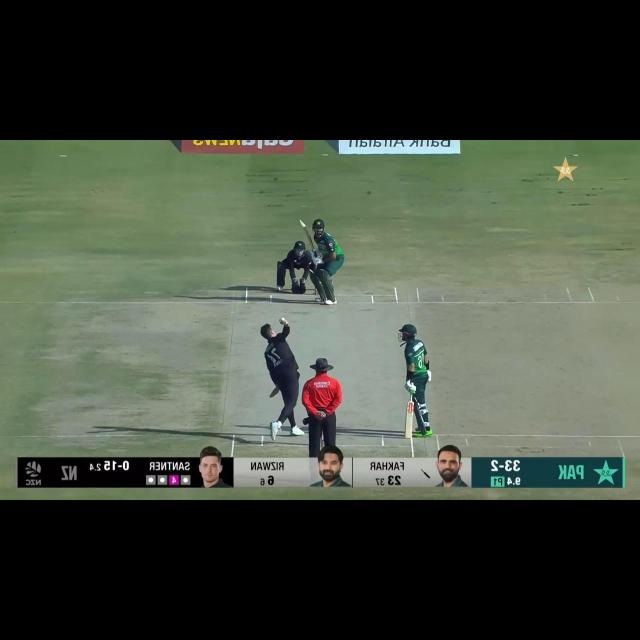bat: (300, 219, 315, 253), (405, 401, 416, 439)
toe: (298, 218, 308, 228), (405, 432, 416, 439)
